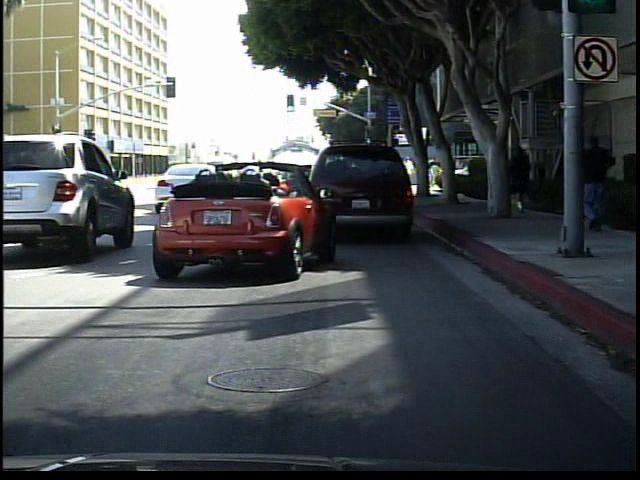person: (580, 132, 623, 238), (507, 141, 536, 213)
